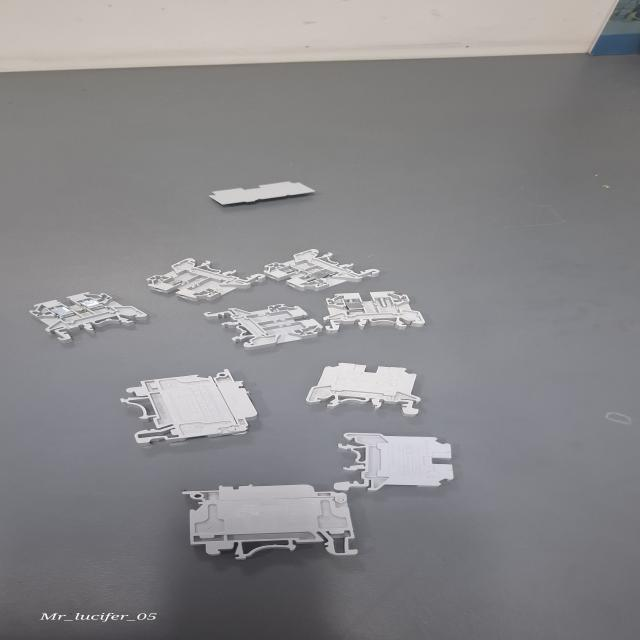Inverted: (330, 430, 462, 492), (303, 360, 432, 418)
Pass: (28, 289, 152, 345)
Reject: (205, 303, 326, 350), (145, 256, 265, 302), (262, 248, 382, 292), (320, 293, 430, 333)
